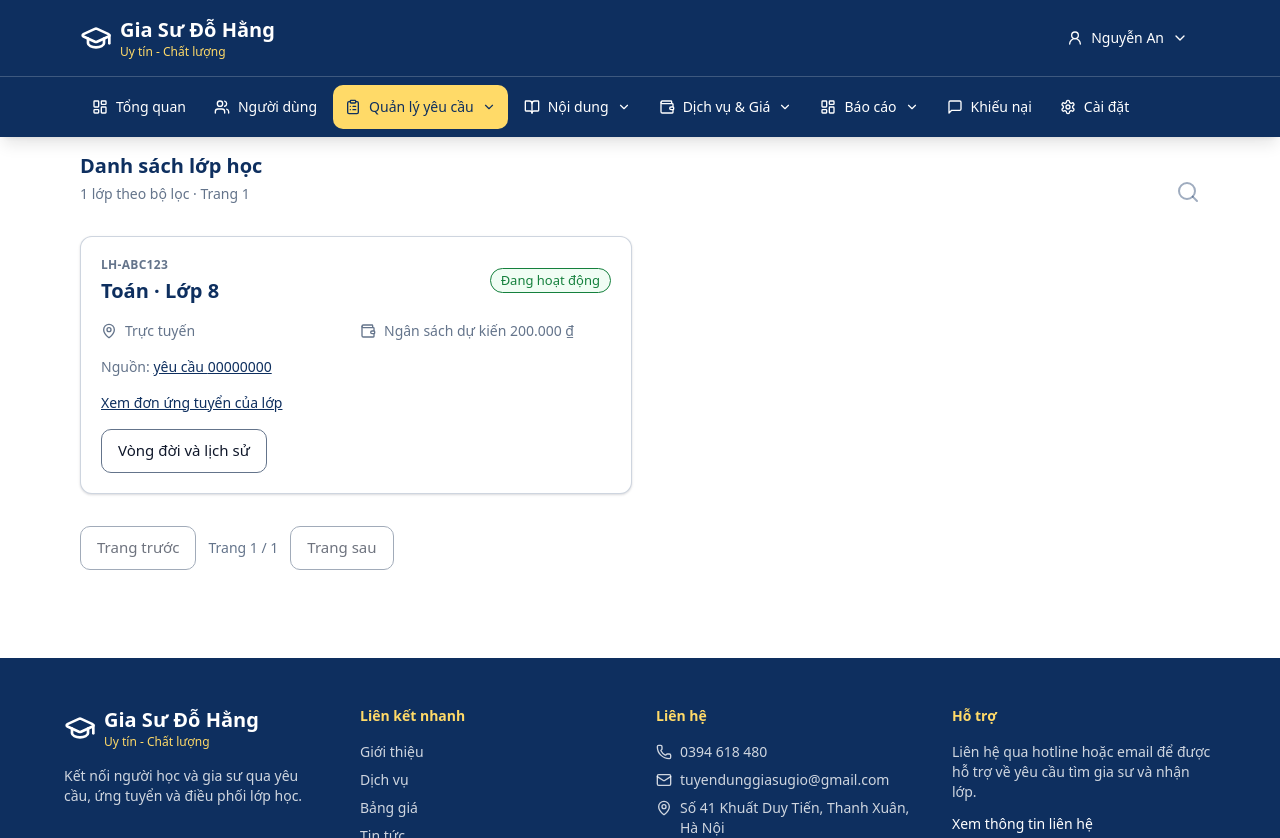
Test: agreed tuition UI › records agreed tuition for a legacy active assignment and shows the saved value
The image size is (1280, 838).
(page scrolled)
Click the button "Vòng đời và lịch sử" at (184, 450), box [101,428,267,472]
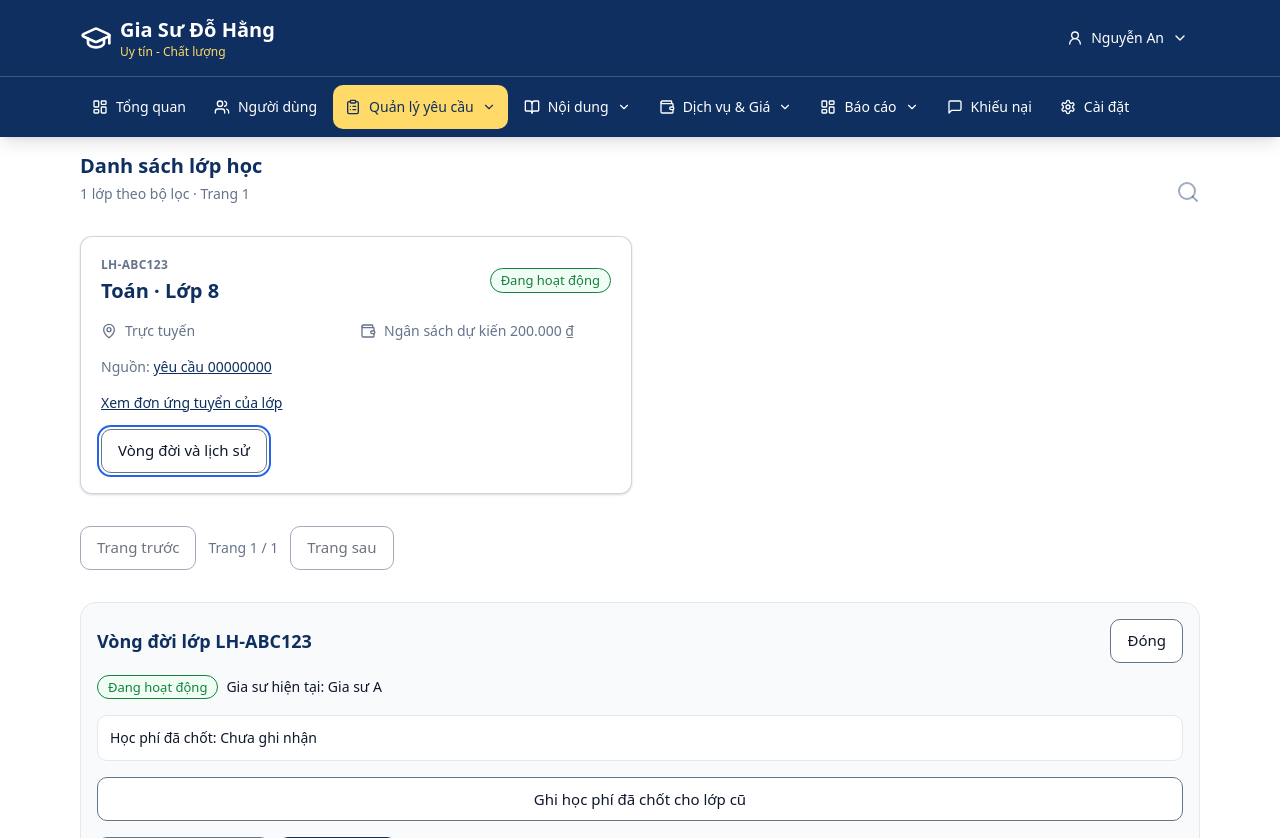
Click the button "Ghi học phí đã chốt cho lớp cũ" at (640, 799), box [97,777,1183,821]
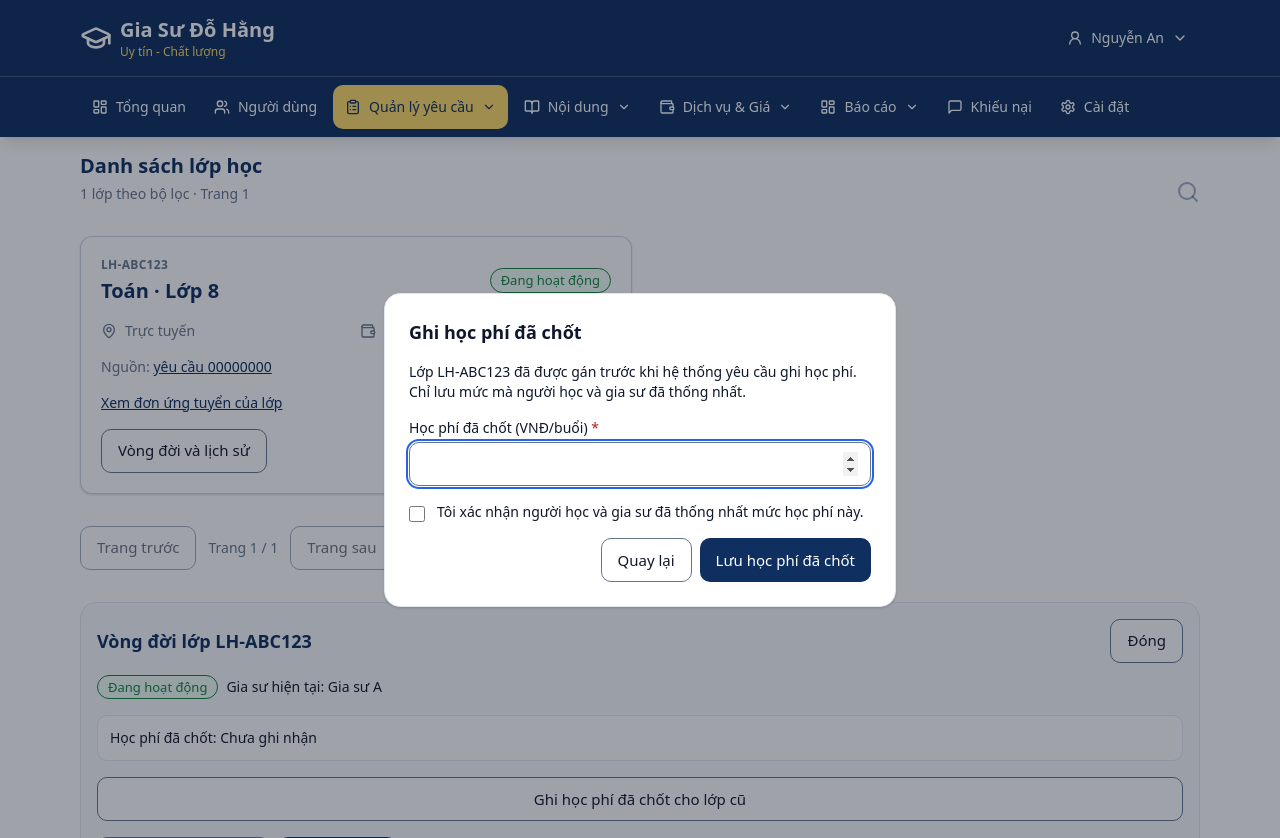
Type "220000" into the number field labelled "Học phí đã chốt (VNĐ/buổi) *" at (640, 464), box [409,442,871,486]
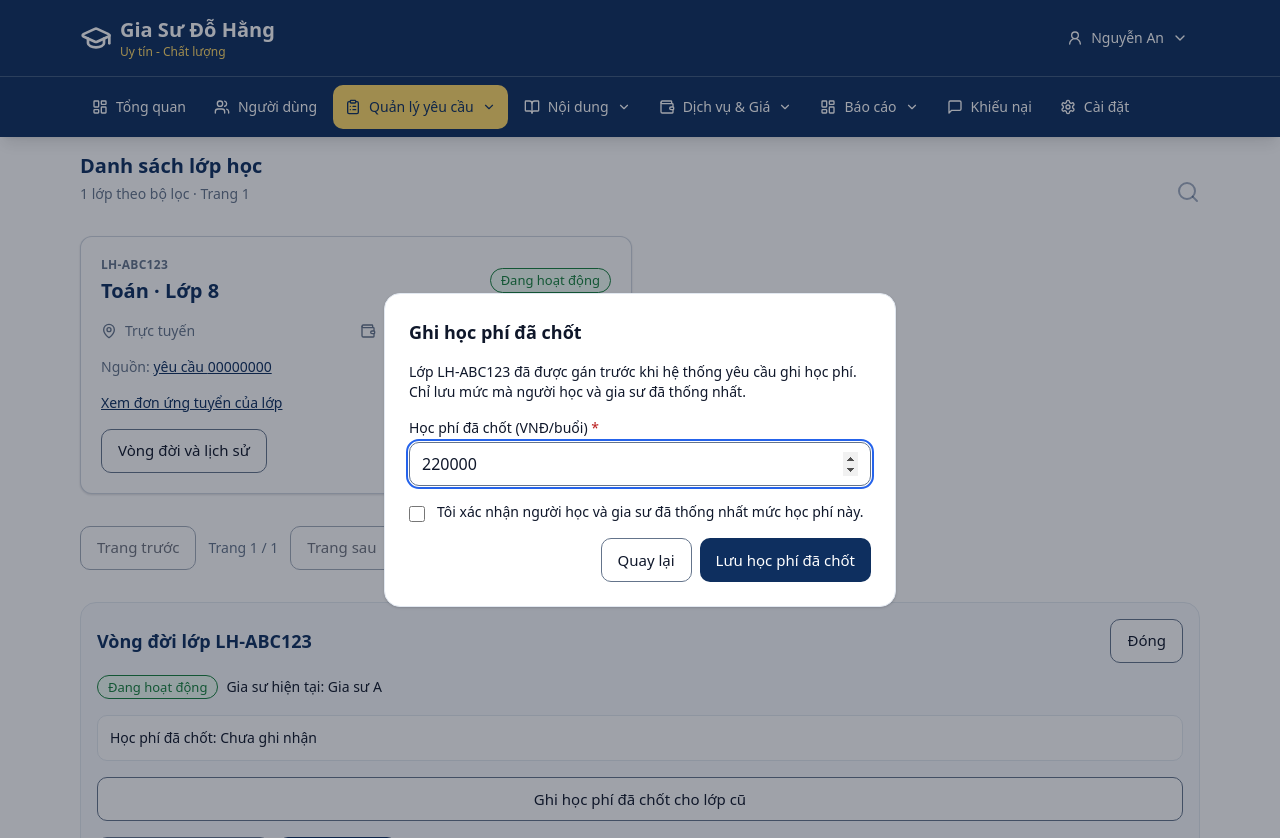
Click the button "Lưu học phí đã chốt" at (785, 560), box [700,538,871,582]
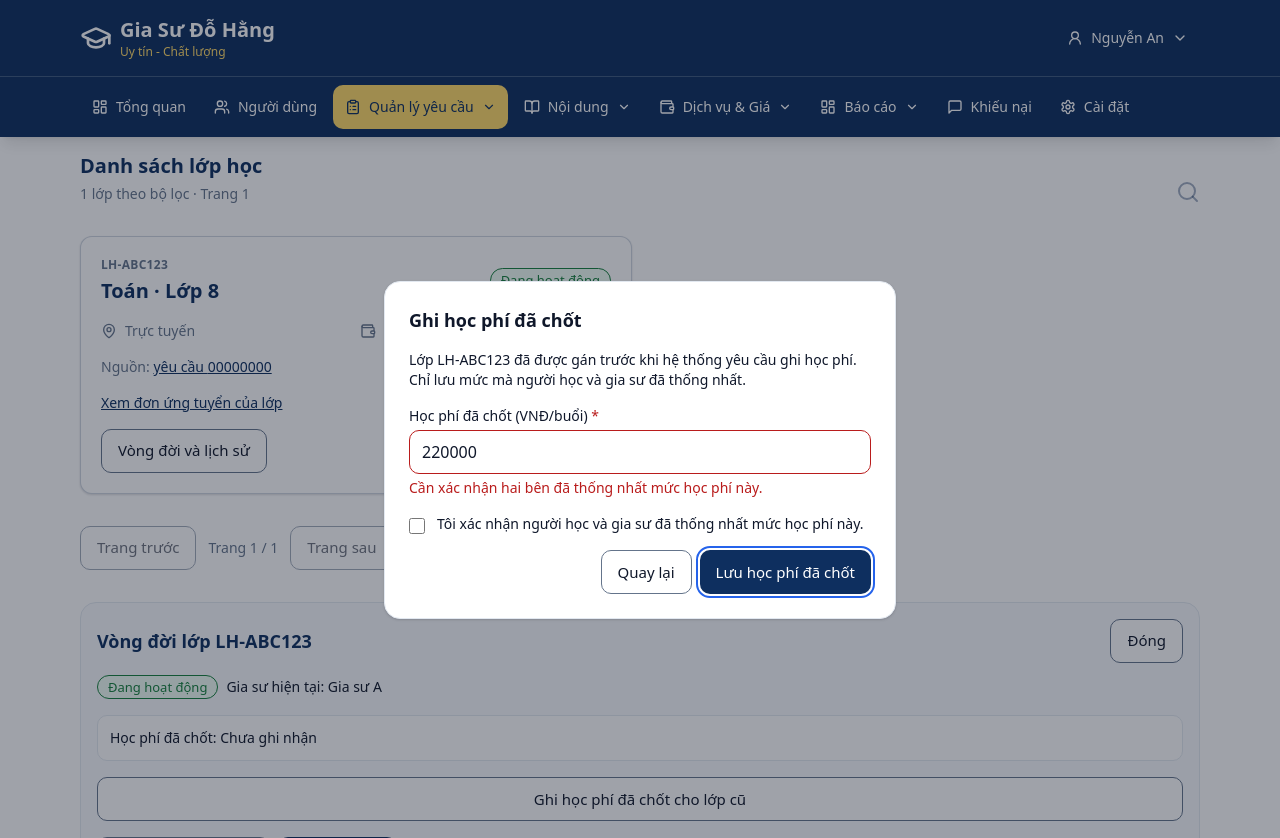
Click the checkbox labelled "Tôi xác nhận người học và gia sư đã thống nhất mức học phí này." at (417, 526), box [409,518,425,534]
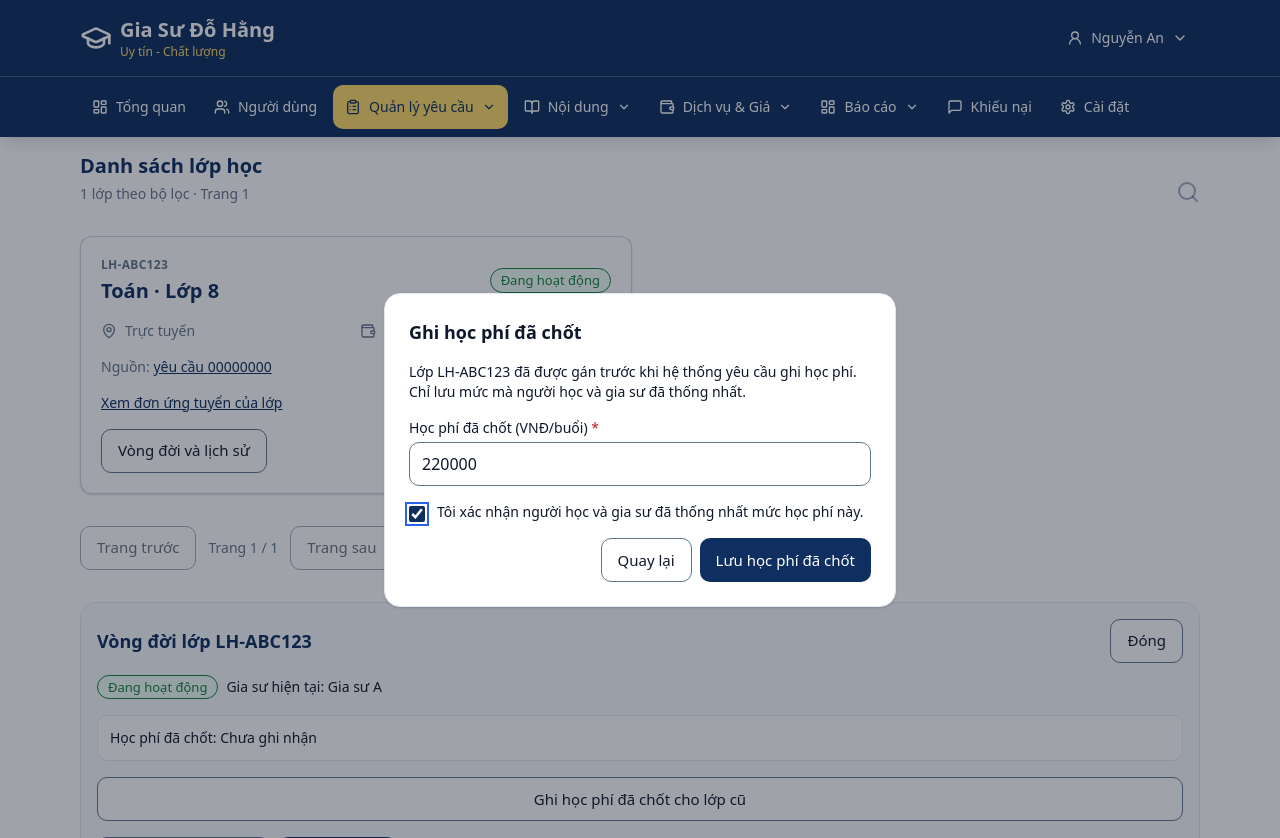
Click the button "Lưu học phí đã chốt" at (785, 560), box [700,538,871,582]
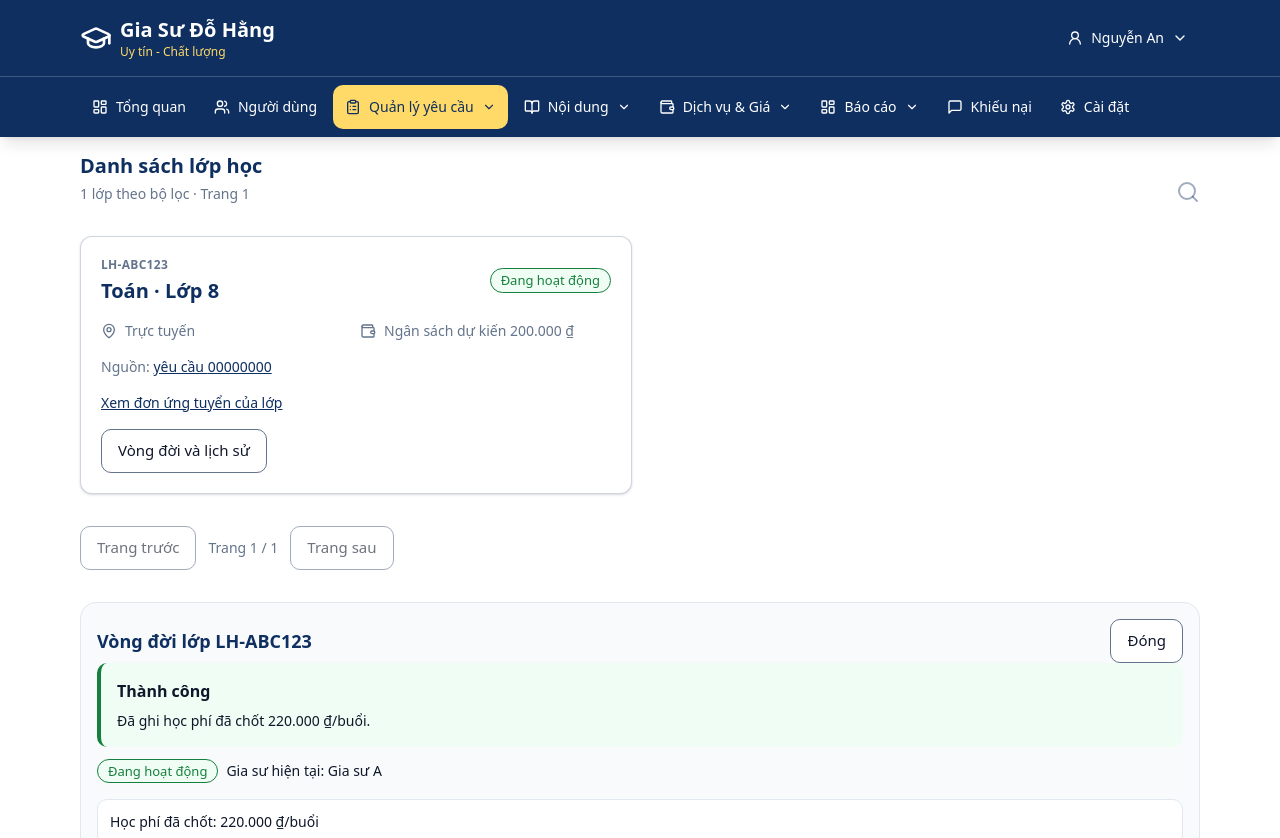
Now the text "Đã ghi học phí đã chốt 220.000 ₫/buổi." is shown, box [117,710,370,730]
Now the button "Ghi học phí đã chốt cho lớp cũ" is gone
